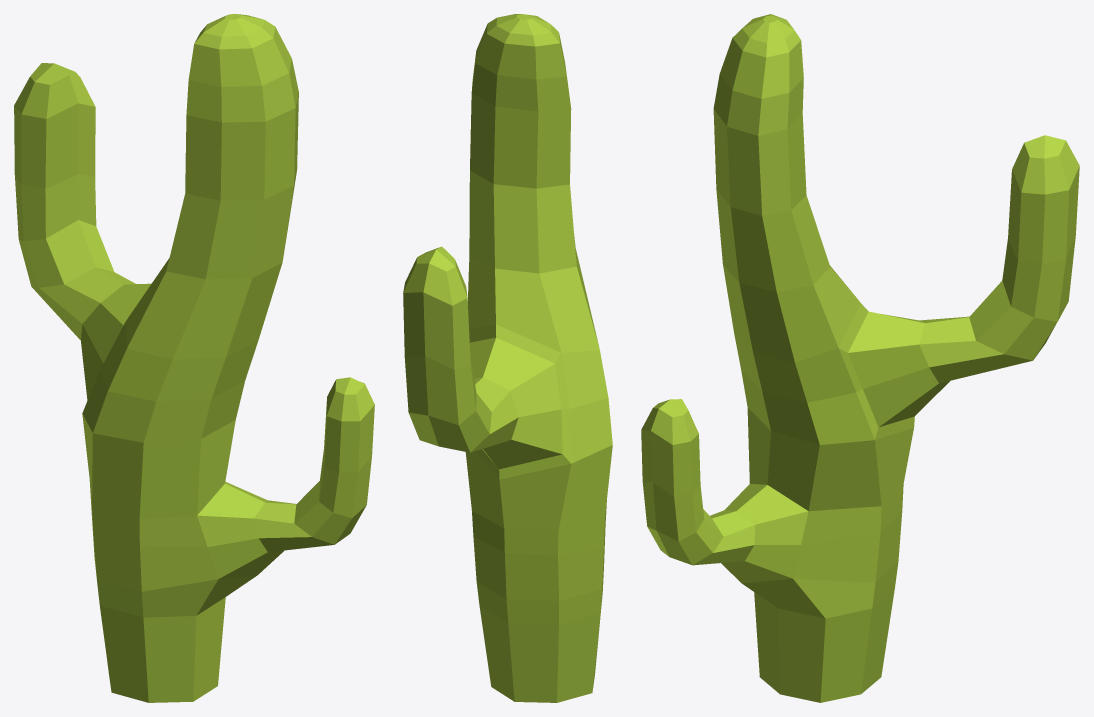
File: Cactus 004.fbx
3 views of the same model, side by side, from view 1: azimuth 30°, elevation 25°; view 2: azimuth 150°, elevation 25°; view 3: azimuth 270°, elevation 25° (orthographic). The views are drawn at different scales.
Visible parts, largest first — view 1: Cactus 001.001; view 2: Cactus 001.001; view 3: Cactus 001.001.
Boxes of the visible parts, <box> form: Cactus 001.001: <box>14,14,374,702</box>; Cactus 001.001: <box>403,14,612,702</box>; Cactus 001.001: <box>641,14,1079,702</box>.
Size of the model in its own units: 97.54 by 297 by 174.
